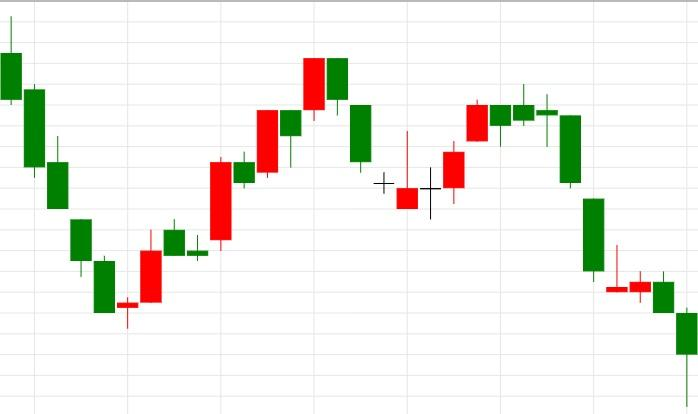inverse_hammer_rise: (327, 58, 418, 209)
morning_star_rise: (2, 15, 162, 329)
